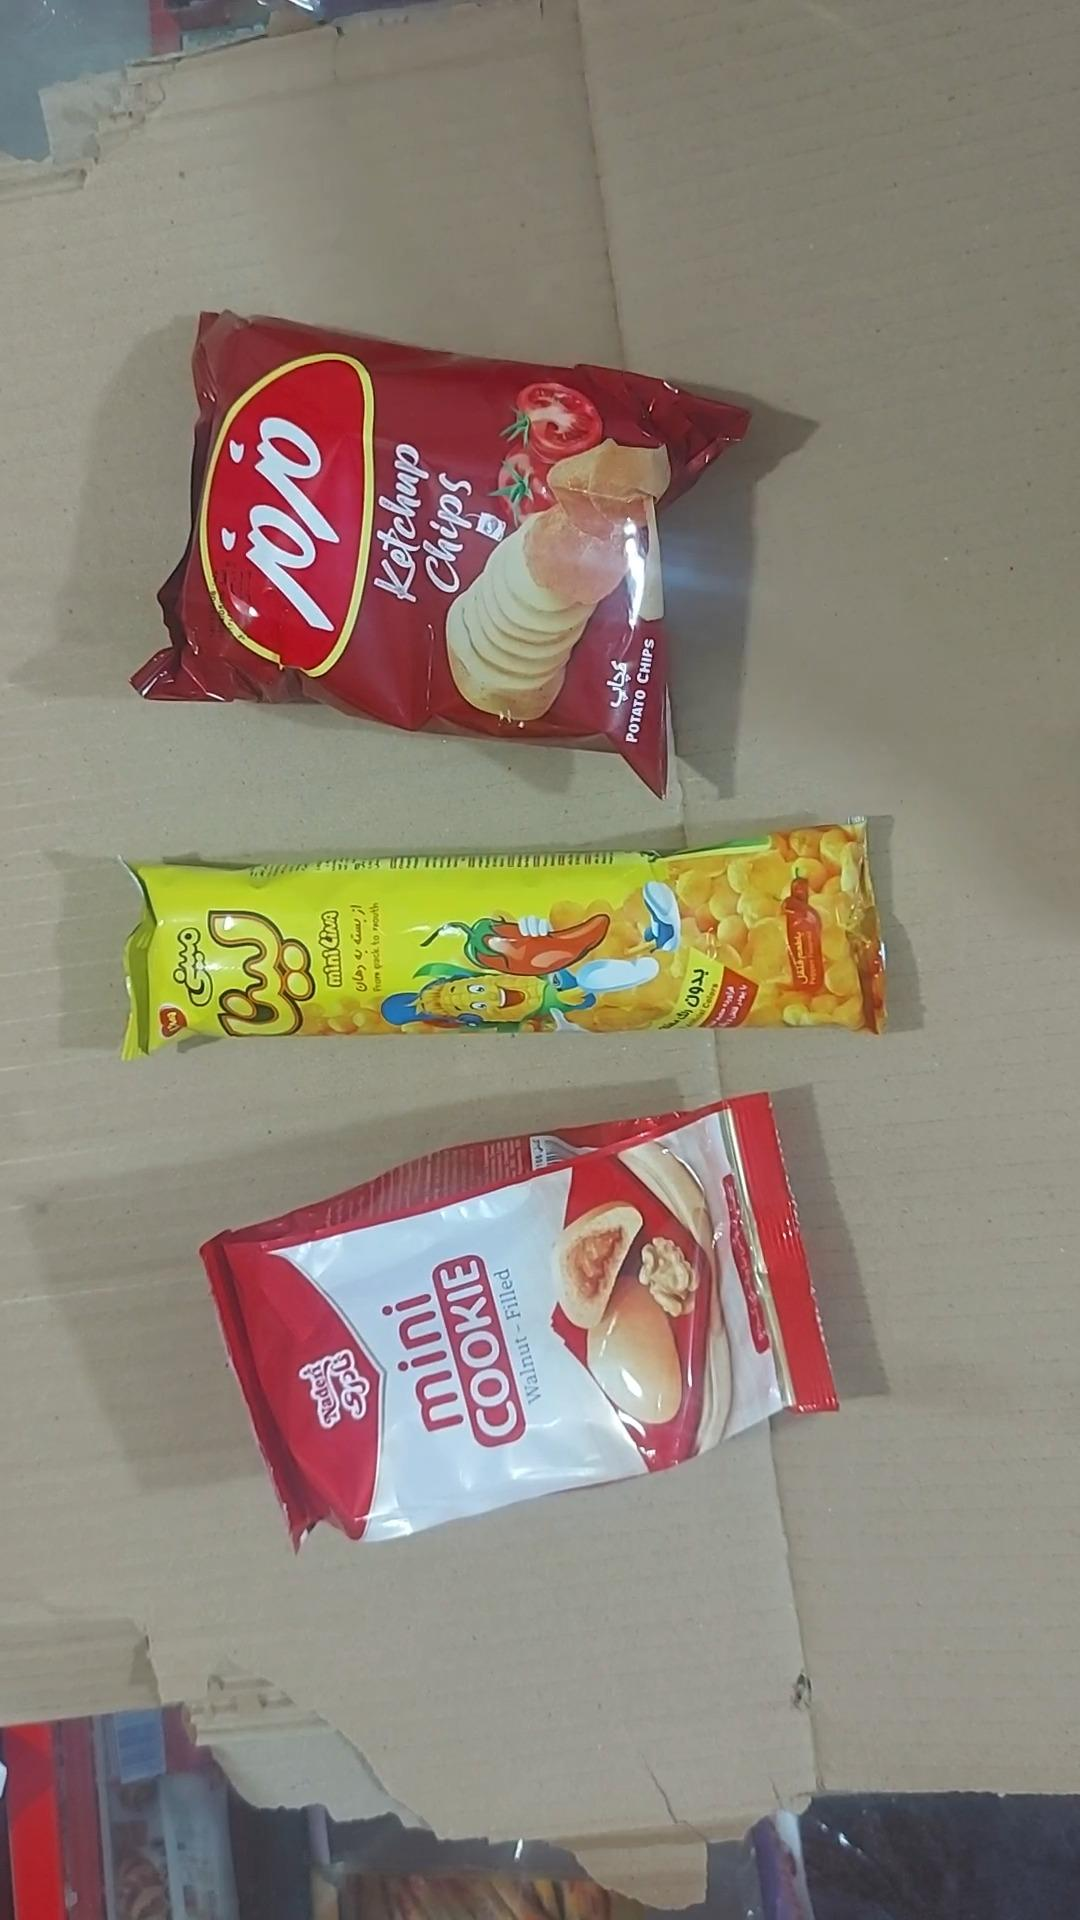Maz Maz ketchup chips: (132, 313, 746, 794)
Mini Lina: (123, 822, 886, 1059)
Naderi mini cookie: (200, 1095, 837, 1547)
